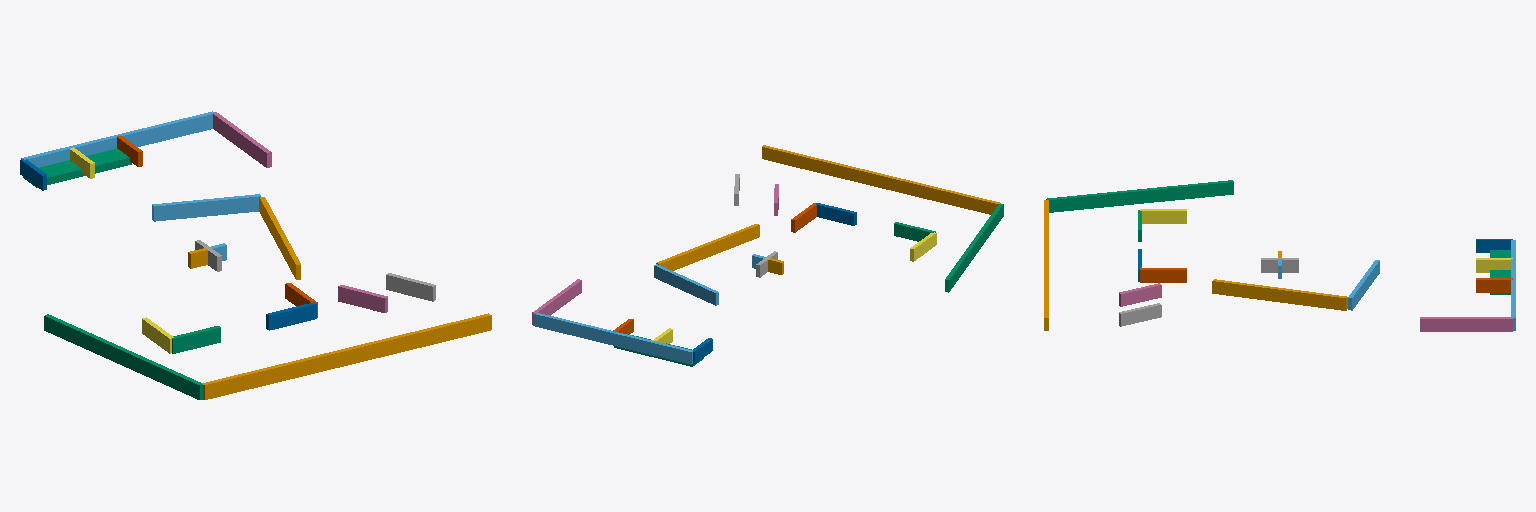
robot.urdf — arena:
<robot name="arena">
  <link name="wall_left">
    <inertial>
      <origin xyz="3.5 -5 0.15" /> 
      <mass value="10.0" />
      <inertia  ixx="1.0" ixy="0.0"  ixz="0.0"  iyy="1.0"  iyz="0.0"  izz="1.0" />
    </inertial>
    <visual>
      <origin xyz="3.5 -5 0.15"/>
      <geometry>
        <box size="6 0.1 0.3" />
      </geometry>
    </visual>
    <collision>
      <origin xyz="3.5 -5 0.15"/>
      <geometry>
       <box size="6 0.1 0.3" />
      </geometry>
    </collision>
  </link>
  
  <link name="wall_right">
    <inertial>
      <origin xyz="4.5 5 0.15" /> 
      <mass value="10.0" />
      <inertia  ixx="1.0" ixy="0.0"  ixz="0.0"  iyy="1.0"  iyz="0.0"  izz="1.0" />
    </inertial>
    <visual>
      <origin xyz="4.5 5 0.15"/>
      <geometry>
        <box size="4 0.1 0.3" />
      </geometry>
    </visual>
    <collision>
      <origin xyz="4.5 5 0.15"/>
      <geometry>
       <box size="4 0.1 0.3" />
      </geometry>
    </collision>
  </link>
  
  <joint name="join_wall_left_to_right" type="fixed">
    <origin xyz="0 0 0" rpy="0 0 0"/>
    <parent link="wall_left"/>
    <child link="wall_right"/>
  </joint>


  <link name="wall_left_angle">
    <inertial>
      <origin rpy="0 0 -1.34" xyz="0 -3 0.15" /> 
      <mass value="10.0" />
      <inertia  ixx="1.0" ixy="0.0"  ixz="0.0"  iyy="1.0"  iyz="0.0"  izz="1.0" />
    </inertial>
    <visual>
      <origin rpy="0 0 -1.34" xyz="0 -3 0.15"/>
      <geometry>
        <box size="4.12 0.1 0.3" />
      </geometry>
    </visual>
    <collision>
      <origin rpy="0 0 -1.34" xyz="0 -3 0.15"/>
      <geometry>
       <box size="4.12 0.1 0.3" />
      </geometry>
    </collision>
  </link>
  
  <joint name="join_wall_left_to_left_angle" type="fixed">
    <origin xyz="0 0 0" rpy="0 0 0"/>
    <parent link="wall_left"/>
    <child link="wall_left_angle"/>
  </joint>



  <link name="wall_right_middle">
    <inertial>
      <origin xyz="3.5 4.6 0.15" /> 
      <mass value="10.0" />
      <inertia  ixx="1.0" ixy="0.0"  ixz="0.0"  iyy="1.0"  iyz="0.0"  izz="1.0" />
    </inertial>
    <visual>
      <origin xyz="3.5 4.6 0.15"/>
      <geometry>
        <box size="0.1 0.8 0.3" />
      </geometry>
    </visual>
    <collision>
      <origin xyz="3.5 4.6 0.15"/>
      <geometry>
       <box size="0.1 0.8 0.3" />
      </geometry>
    </collision>
  </link>

  <joint name="join_wall_right_to_middle_right" type="fixed">
    <origin xyz="0 0 0" rpy="0 0 0"/>
    <parent link="wall_left"/>
    <child link="wall_right_middle"/>
  </joint>
  
  
  <link name="wall_right_middle_1">
    <inertial>
      <origin xyz="2.5 4.6 0.15" /> 
      <mass value="10.0" />
      <inertia  ixx="1.0" ixy="0.0"  ixz="0.0"  iyy="1.0"  iyz="0.0"  izz="1.0" />
    </inertial>
    <visual>
      <origin xyz="2.5 4.6 0.15"/>
      <geometry>
        <box size="0.1 0.8 0.3" />
      </geometry>
    </visual>
    <collision>
      <origin xyz="2.5 4.6 0.15"/>
      <geometry>
       <box size="0.1 0.8 0.3" />
      </geometry>
    </collision>
  </link>

  <joint name="join_wall_right_to_middle_right_1" type="fixed">
    <origin xyz="0 0 0" rpy="0 0 0"/>
    <parent link="wall_left"/>
    <child link="wall_right_middle_1"/>
  </joint>
  
  <link name="wall_right_middle_2">
    <inertial>
      <origin xyz="4.5 4.6 0.15" /> 
      <mass value="10.0" />
      <inertia  ixx="1.0" ixy="0.0"  ixz="0.0"  iyy="1.0"  iyz="0.0"  izz="1.0" />
    </inertial>
    <visual>
      <origin xyz="4.5 4.6 0.15"/>
      <geometry>
        <box size="0.1 0.8 0.3" />
      </geometry>
    </visual>
    <collision>
      <origin xyz="4.5 4.6 0.15"/>
      <geometry>
       <box size="0.1 0.8 0.3" />
      </geometry>
    </collision>
  </link>

  <joint name="join_wall_right_to_middle_right_2" type="fixed">
    <origin xyz="0 0 0" rpy="0 0 0"/>
    <parent link="wall_left"/>
    <child link="wall_right_middle_2"/>
  </joint>
  
  
  
  <link name="wall_right_bottom">
    <inertial>
      <origin xyz="6.5 4 0.15" /> 
      <mass value="10.0" />
      <inertia  ixx="1.0" ixy="0.0"  ixz="0.0"  iyy="1.0"  iyz="0.0"  izz="1.0" />
    </inertial>
    <visual>
      <origin xyz="6.5 4 0.15"/>
      <geometry>
        <box size="0.1 2 0.3" />
      </geometry>
    </visual>
    <collision>
      <origin xyz="6.5 4 0.15"/>
      <geometry>
       <box size="0.1 2 0.3" />
      </geometry>
    </collision>
  </link>

  <joint name="joint_1" type="fixed">
    <origin xyz="0 0 0" rpy="0 0 0"/>
    <parent link="wall_left"/>
    <child link="wall_right_bottom"/>
  </joint>
  
  <link name="wall_middle_y">
    <inertial>
      <origin xyz="3.5 0 0.15" /> 
      <mass value="10.0" />
      <inertia  ixx="1.0" ixy="0.0"  ixz="0.0"  iyy="1.0"  iyz="0.0"  izz="1.0" />
    </inertial>
    <visual>
      <origin xyz="3.5 0 0.15"/>
      <geometry>
        <box size="0.1 0.8 0.3" />
      </geometry>
    </visual>
    <collision>
      <origin xyz="3.5 0 0.15"/>
      <geometry>
       <box size="0.1 0.8 0.3" />
      </geometry>
    </collision>
  </link>
  
  <joint name="joint_2" type="fixed">
    <origin xyz="0 0 0" rpy="0 0 0"/>
    <parent link="wall_left"/>
    <child link="wall_middle_y"/>
  </joint>
  
   <link name="wall_middle_x1">
    <inertial>
      <origin xyz="3.275 0 0.15" /> 
      <mass value="10.0" />
      <inertia  ixx="1.0" ixy="0.0"  ixz="0.0"  iyy="1.0"  iyz="0.0"  izz="1.0" />
    </inertial>
    <visual>
      <origin xyz="3.275 0 0.15"/>
      <geometry>
        <box size="0.35 0.1 0.3" />
      </geometry>
    </visual>
    <collision>
      <origin xyz="3.275 0 0.15"/>
      <geometry>
       <box size="0.35 0.1 0.3" />
      </geometry>
    </collision>
  </link>
  
   <link name="wall_middle_x2">
    <inertial>
      <origin xyz="3.685 0 0.15" /> 
      <mass value="10.0" />
      <inertia  ixx="1.0" ixy="0.0"  ixz="0.0"  iyy="1.0"  iyz="0.0"  izz="1.0" />
    </inertial>
    <visual>
      <origin xyz="3.685 0 0.15"/>
      <geometry>
        <box size="0.35 0.1 0.3" />
      </geometry>
    </visual>
    <collision>
      <origin xyz="3.685 0 0.15"/>
      <geometry>
       <box size="0.35 0.1 0.3" />
      </geometry>
    </collision>
  </link>

  <joint name="joint_3" type="fixed">
    <origin xyz="0 0 0" rpy="0 0 0"/>
    <parent link="wall_left"/>
    <child link="wall_middle_x1"/>
  </joint>
  
  <joint name="joint_4" type="fixed">
    <origin xyz="0 0 0" rpy="0 0 0"/>
    <parent link="wall_left"/>
    <child link="wall_middle_x2"/>
  </joint>
  
  <link name="wall_middle_1">
    <inertial>
      <origin xyz="1.5 -3 0.15" /> 
      <mass value="10.0" />
      <inertia  ixx="1.0" ixy="0.0"  ixz="0.0"  iyy="1.0"  iyz="0.0"  izz="1.0" />
    </inertial>
    <visual>
      <origin xyz="1.5 -3 0.15"/>
      <geometry>
        <box size="1 0.1 0.3" />
      </geometry>
    </visual>
    <collision>
      <origin xyz="1.5 -3 0.15"/>
      <geometry>
       <box size="1 0.1 0.3" />
      </geometry>
    </collision>
  </link>
  
  <link name="wall_middle_2">
    <inertial>
      <origin xyz="1 -2.5 0.15" /> 
      <mass value="10.0" />
      <inertia  ixx="1.0" ixy="0.0"  ixz="0.0"  iyy="1.0"  iyz="0.0"  izz="1.0" />
    </inertial>
    <visual>
      <origin xyz="1 -2.5 0.15"/>
      <geometry>
        <box size="0.1 1 0.3" />
      </geometry>
    </visual>
    <collision>
      <origin xyz="1 -2.5 0.15"/>
      <geometry>
       <box size="0.1 1 0.3" />
      </geometry>
    </collision>
  </link>
  
  <joint name="joint_5" type="fixed">
    <origin xyz="0 0 0" rpy="0 0 0"/>
    <parent link="wall_left"/>
    <child link="wall_middle_1"/>
  </joint>
  
  <joint name="joint_6" type="fixed">
    <origin xyz="0 0 0" rpy="0 0 0"/>
    <parent link="wall_left"/>
    <child link="wall_middle_2"/>
  </joint>
  
    <link name="wall_middle_3">
    <inertial>
      <origin xyz="3.5 -3 0.15" /> 
      <mass value="10.0" />
      <inertia  ixx="1.0" ixy="0.0"  ixz="0.0"  iyy="1.0"  iyz="0.0"  izz="1.0" />
    </inertial>
    <visual>
      <origin xyz="3.5 -3 0.15"/>
      <geometry>
        <box size="1 0.1 0.3" />
      </geometry>
    </visual>
    <collision>
      <origin xyz="3.5 -3 0.15"/>
      <geometry>
       <box size="1 0.1 0.3" />
      </geometry>
    </collision>
  </link>
  
  <link name="wall_middle_4">
    <inertial>
      <origin xyz="4 -2.5 0.15" /> 
      <mass value="10.0" />
      <inertia  ixx="1.0" ixy="0.0"  ixz="0.0"  iyy="1.0"  iyz="0.0"  izz="1.0" />
    </inertial>
    <visual>
      <origin xyz="4 -2.5 0.15"/>
      <geometry>
        <box size="0.1 1 0.3" />
      </geometry>
    </visual>
    <collision>
      <origin xyz="4 -2.5 0.15"/>
      <geometry>
       <box size="0.1 1 0.3" />
      </geometry>
    </collision>
  </link>
  
  <joint name="joint_7" type="fixed">
    <origin xyz="0 0 0" rpy="0 0 0"/>
    <parent link="wall_left"/>
    <child link="wall_middle_3"/>
  </joint>
  
  <joint name="joint_8" type="fixed">
    <origin xyz="0 0 0" rpy="0 0 0"/>
    <parent link="wall_left"/>
    <child link="wall_middle_4"/>
  </joint>
  
  <link name="wall_middle_5">
    <inertial>
      <origin rpy="0 0 0.5" xyz="5 -3 0.15" /> 
      <mass value="10.0" />
      <inertia  ixx="1.0" ixy="0.0"  ixz="0.0"  iyy="1.0"  iyz="0.0"  izz="1.0" />
    </inertial>
    <visual>
      <origin rpy="0 0 0.5" xyz="5 -3 0.15"/>
      <geometry>
        <box size="0.1 1 0.3" />
      </geometry>
    </visual>
    <collision>
      <origin rpy="0 0 0.5" xyz="5 -3 0.15"/>
      <geometry>
       <box size="0.1 1 0.3" />
      </geometry>
    </collision>
  </link>
  
  <joint name="joint_9" type="fixed">
    <origin xyz="0 0 0" rpy="0 0 0"/>
    <parent link="wall_left"/>
    <child link="wall_middle_5"/>
  </joint>
  
    <link name="wall_middle_6">
    <inertial>
      <origin rpy="0 0 0.5" xyz="6 -3 0.15" /> 
      <mass value="10.0" />
      <inertia  ixx="1.0" ixy="0.0"  ixz="0.0"  iyy="1.0"  iyz="0.0"  izz="1.0" />
    </inertial>
    <visual>
      <origin rpy="0 0 0.5" xyz="6 -3 0.15"/>
      <geometry>
        <box size="0.1 1 0.3" />
      </geometry>
    </visual>
    <collision>
      <origin rpy="0 0 0.5" xyz="6 -3 0.15"/>
      <geometry>
       <box size="0.1 1 0.3" />
      </geometry>
    </collision>
  </link>
  
  
  <joint name="joint_10" type="fixed">
    <origin xyz="0 0 0" rpy="0 0 0"/>
    <parent link="wall_left"/>
    <child link="wall_middle_6"/>
  </joint>
  
  <link name="wall_middle_7">
    <inertial>
      <origin rpy="0 0 -0.3" xyz="5 0 0.15" /> 
      <mass value="10.0" />
      <inertia  ixx="1.0" ixy="0.0"  ixz="0.0"  iyy="1.0"  iyz="0.0"  izz="1.0" />
    </inertial>
    <visual>
      <origin rpy="0 0 -0.3" xyz="5 0 0.15"/>
      <geometry>
        <box size="0.1 3 0.3" />
      </geometry>
    </visual>
    <collision>
      <origin rpy="0 0 -0.3" xyz="5 0 0.15"/>
      <geometry>
       <box size="0.1 3 0.3" />
      </geometry>
    </collision>
  </link>
  
  
  <joint name="joint_11" type="fixed">
    <origin xyz="0 0 0" rpy="0 0 0"/>
    <parent link="wall_left"/>
    <child link="wall_middle_7"/>
  </joint>
  
  <link name="wall_middle_8">
    <inertial>
      <origin rpy="0 0 -1.87" xyz="4.5 1.8 0.15" /> 
      <mass value="10.0" />
      <inertia  ixx="1.0" ixy="0.0"  ixz="0.0"  iyy="1.0"  iyz="0.0"  izz="1.0" />
    </inertial>
    <visual>
      <origin rpy="0 0 -1.87" xyz="4.5 1.8 0.15"/>
      <geometry>
        <box size="0.1 2 0.3" />
      </geometry>
    </visual>
    <collision>
      <origin rpy="0 0 -1.87" xyz="4.5 1.8 0.15"/>
      <geometry>
       <box size="0.1 2 0.3" />
      </geometry>
    </collision>
  </link>
  
  
  <joint name="joint_12" type="fixed">
    <origin xyz="0 0 0" rpy="0 0 0"/>
    <parent link="wall_left"/>
    <child link="wall_middle_8"/>
  </joint>
  
  <link name="wall_middle_9">
    <inertial>
      <origin xyz="3.5 4.75 0" /> 
      <mass value="10.0" />
      <inertia  ixx="1.0" ixy="0.0"  ixz="0.0"  iyy="1.0"  iyz="0.0"  izz="1.0" />
    </inertial>
    <visual>
      <origin xyz="3.5 4.75 0"/>
      <geometry>
        <box size="2 0.5 0.15" />
      </geometry>
    </visual>
    <collision>
      <origin xyz="3.5 4.75 0"/>
      <geometry>
       <box size="2 0.5 0.15" />
      </geometry>
    </collision>
  </link>
  
  
  <joint name="joint_13" type="fixed">
    <origin xyz="0 0 0" rpy="0 0 0"/>
    <parent link="wall_left"/>
    <child link="wall_middle_9"/>
  </joint>

</robot>

--- Render facts (derived) ---
The picture shows the robot from 3 angles, left to right: view 1: azimuth 30°, elevation 25°; view 2: azimuth 150°, elevation 25°; view 3: azimuth 270°, elevation 25°; orthographic projection.
Robot: arena — 19 links, 18 joints (18 fixed); root link wall_left; default pose: every joint at zero.
Links seen in each view (by area): view 1: wall_left, wall_left_angle, wall_right, wall_middle_8, wall_middle_9, wall_right_bottom, wall_middle_7, wall_middle_3, wall_middle_5, wall_middle_6, wall_middle_1, wall_middle_2; view 2: wall_left, wall_right, wall_middle_7, wall_left_angle, wall_middle_8, wall_right_bottom, wall_middle_3; view 3: wall_left_angle, wall_middle_7, wall_right_bottom, wall_middle_4, wall_middle_2, wall_left, wall_middle_5, wall_middle_6, wall_middle_8, wall_right_middle_2.
Link boxes in pixels (left/top/right/bottom): wall_left: left=202, top=313, right=491, bottom=399; wall_left_angle: left=44, top=314, right=202, bottom=399; wall_right: left=21, top=111, right=214, bottom=167; wall_middle_8: left=152, top=194, right=260, bottom=221; wall_middle_9: left=23, top=149, right=131, bottom=187; wall_right_bottom: left=212, top=112, right=271, bottom=167; wall_middle_7: left=259, top=197, right=300, bottom=279; wall_middle_3: left=266, top=302, right=316, bottom=330; wall_middle_5: left=338, top=285, right=387, bottom=312; wall_middle_6: left=386, top=273, right=435, bottom=301; wall_middle_1: left=172, top=326, right=220, bottom=353; wall_middle_2: left=142, top=317, right=173, bottom=353; wall_left: left=762, top=145, right=1000, bottom=214; wall_right: left=533, top=313, right=692, bottom=364; wall_middle_7: left=656, top=224, right=759, bottom=270; wall_left_angle: left=945, top=204, right=1003, bottom=292; wall_middle_8: left=654, top=264, right=718, bottom=305; wall_right_bottom: left=532, top=279, right=581, bottom=324; wall_middle_3: left=816, top=203, right=856, bottom=225; wall_left_angle: left=1046, top=180, right=1233, bottom=212; wall_middle_7: left=1212, top=279, right=1347, bottom=310; wall_right_bottom: left=1420, top=317, right=1512, bottom=331; wall_middle_4: left=1140, top=268, right=1186, bottom=282; wall_middle_2: left=1140, top=209, right=1186, bottom=223; wall_left: left=1044, top=200, right=1048, bottom=330; wall_middle_5: left=1119, top=283, right=1161, bottom=306; wall_middle_6: left=1119, top=303, right=1161, bottom=326; wall_middle_8: left=1348, top=260, right=1379, bottom=310; wall_right_middle_2: left=1476, top=278, right=1512, bottom=292.
Size in the robot's own frame: 7.07 by 10.1 by 0.375 metres.
Geometry: primitives only (box / cylinder / sphere), no mesh files.